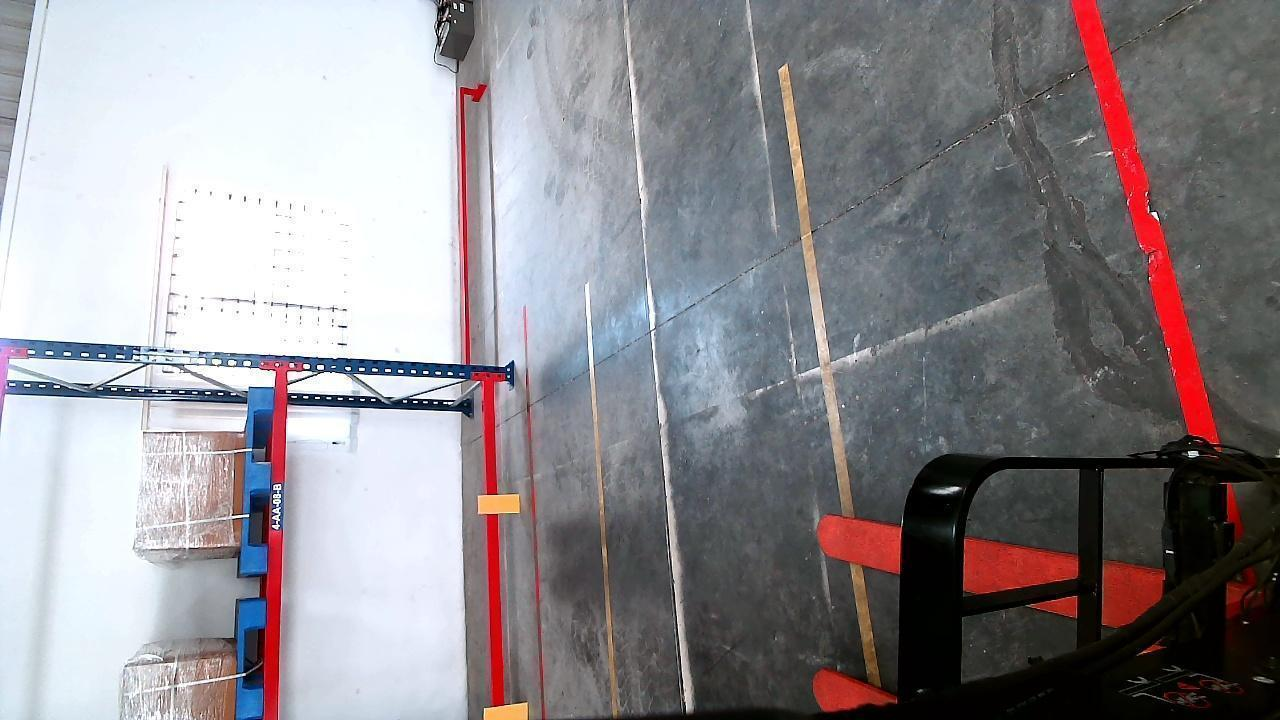red_line: (1066, 0, 1218, 438)
yellow_line: (772, 62, 883, 679), (577, 282, 624, 708)
